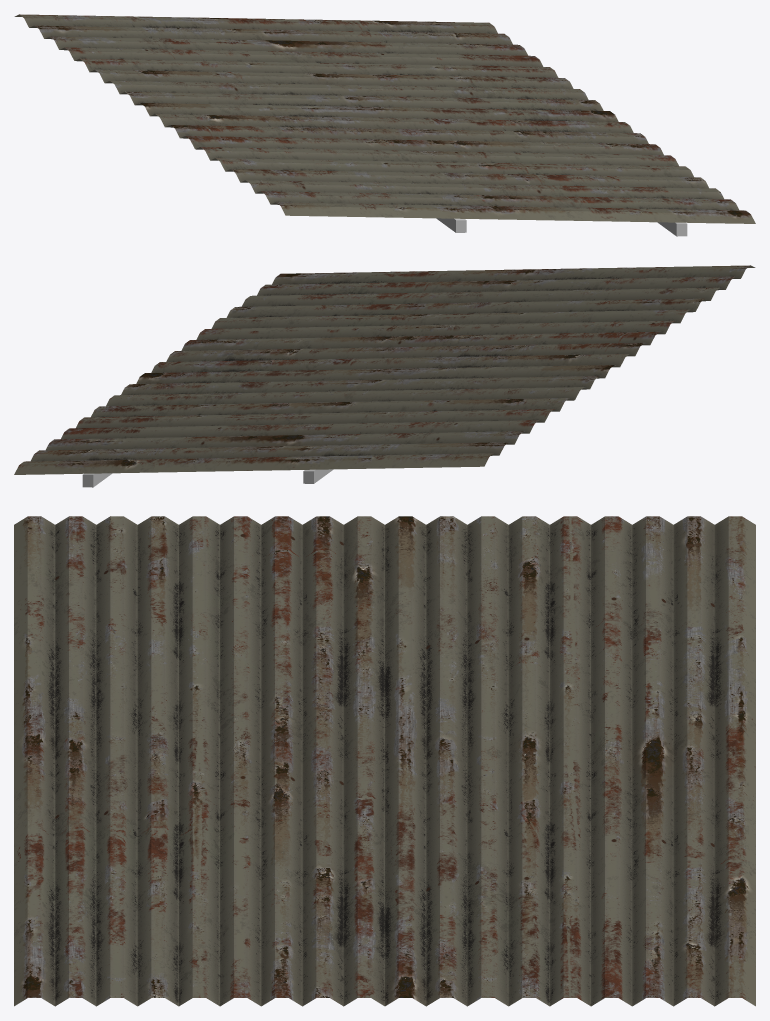
Rendered from Metal_Roof_1.fbx.
3 renders of one model, top to bottom at view 1: azimuth 30°, elevation 25°; view 2: azimuth 150°, elevation 25°; view 3: azimuth 270°, elevation 25°, orthographic. The views are drawn at different scales.
Parts seen in each view (by area): view 1: Metal_Roof_1; view 2: Metal_Roof_1; view 3: Metal_Roof_1.
Part boxes in pixels (x1,y1,x2,y2): Metal_Roof_1: (14,14,755,236); Metal_Roof_1: (14,265,755,487); Metal_Roof_1: (14,516,755,1006).
Size of the model in its own units: 4 by 1.05 by 4.
